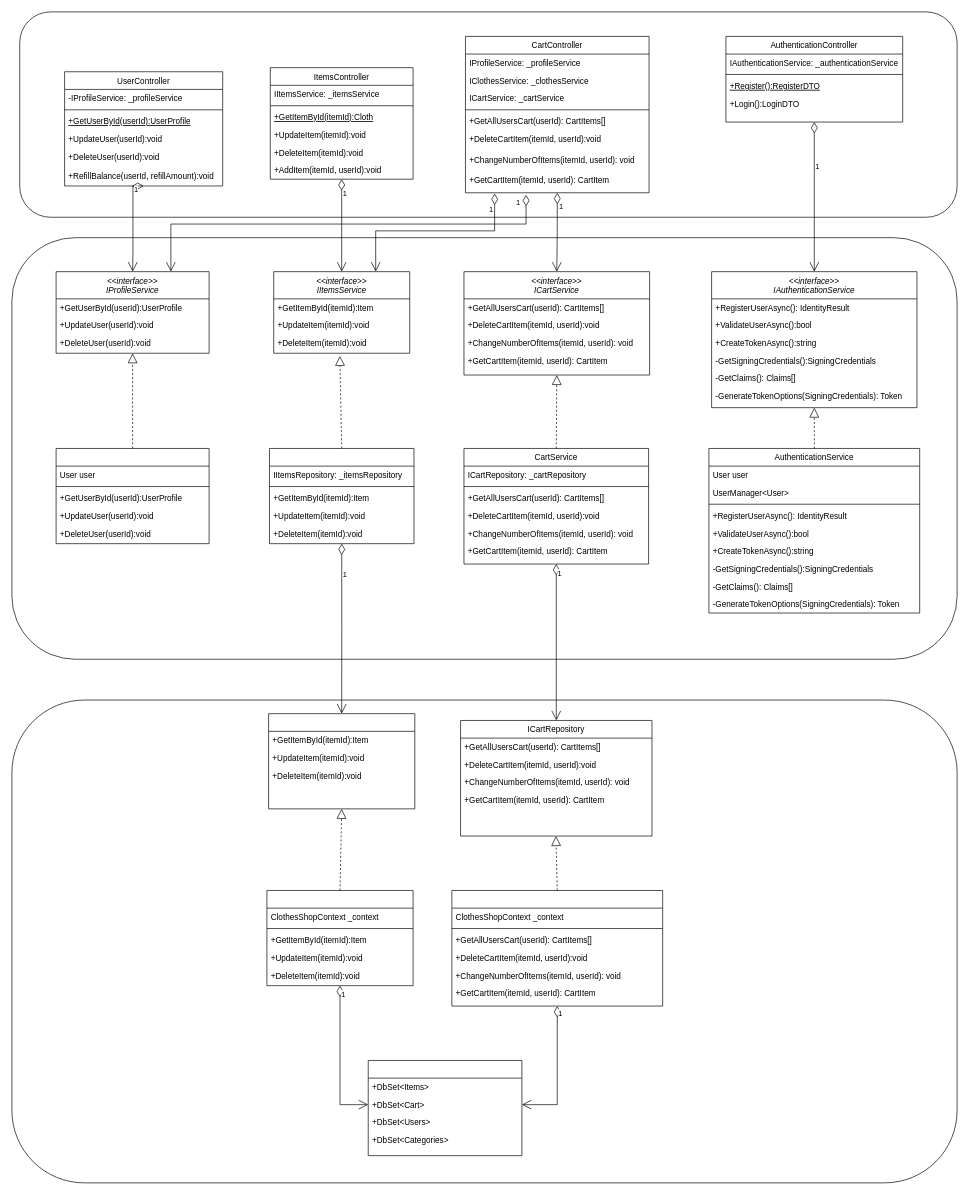
This 969x1195 diagram has some shape labels left out. Here are the shapes that lost their labels. From the top down, the box of each, then its label:
(55, 448, 209, 544): ProfileService
(269, 448, 414, 544): ItemsService
(268, 713, 415, 809): IItemsRepository
(266, 890, 413, 986): ItemsRepository
(451, 890, 663, 1006): CartRepository
(368, 1060, 522, 1156): ClothesShopContext
